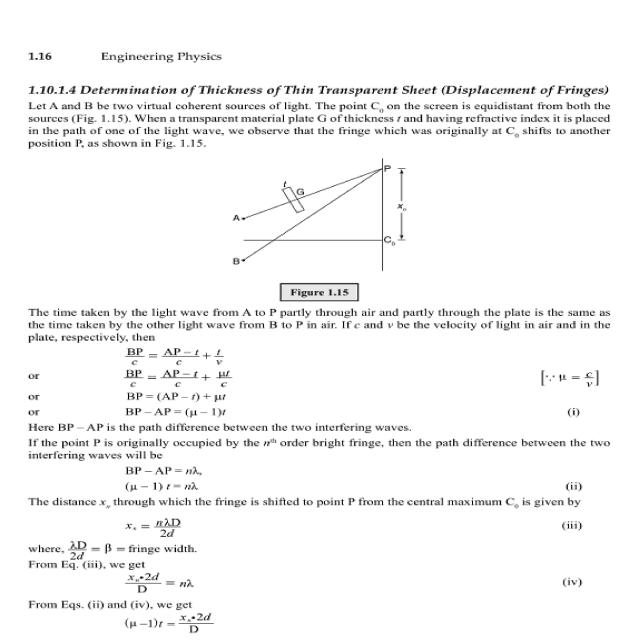diagram: (140, 154, 538, 302)
